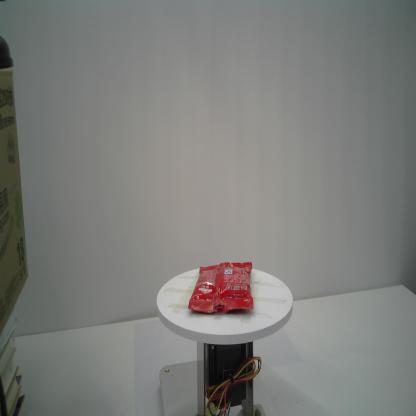Instant Drink: (186, 261, 254, 313)
